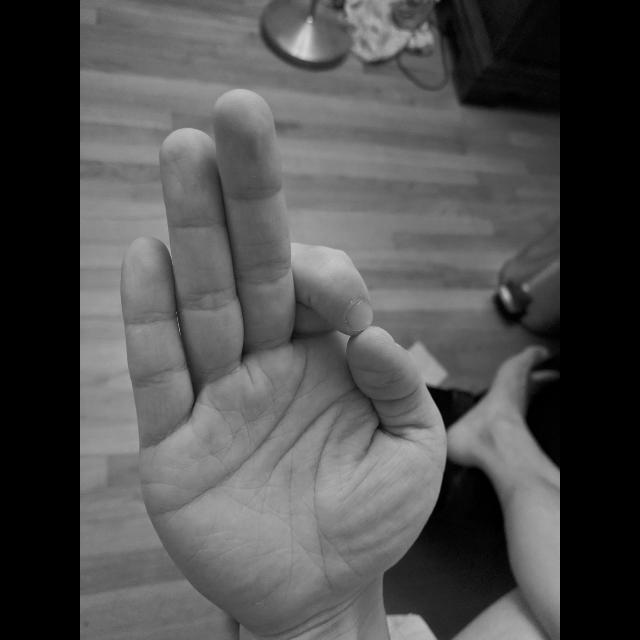F: (114, 82, 450, 640)
